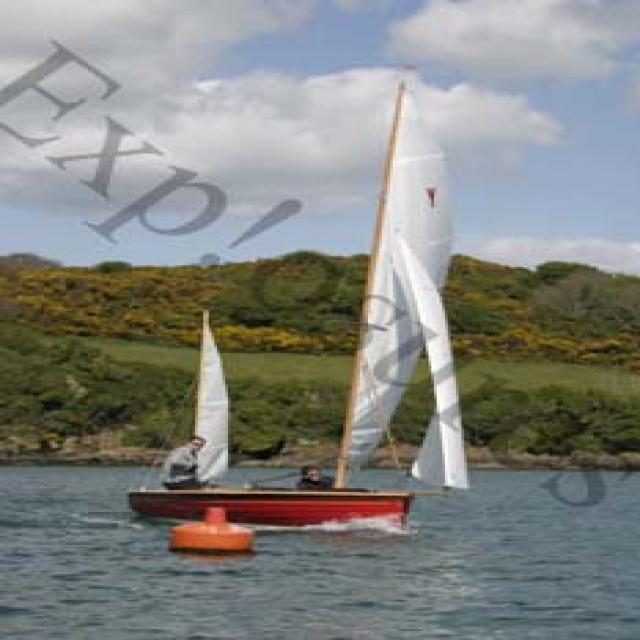Ship: (139, 80, 504, 537)
